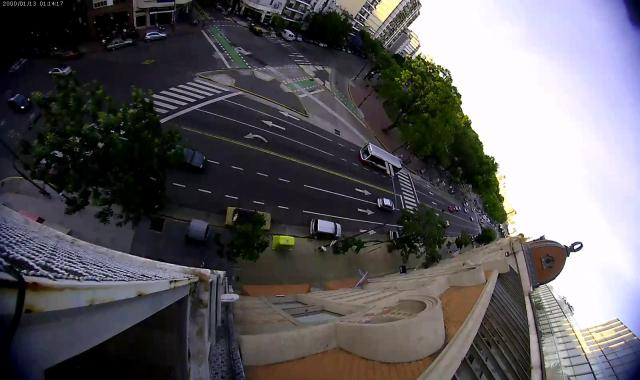bus: (359, 143, 403, 177)
car: (225, 206, 272, 231), (164, 145, 207, 172), (310, 219, 343, 239), (6, 92, 33, 112), (107, 37, 134, 51), (144, 29, 168, 43), (48, 64, 72, 76), (377, 198, 395, 212), (60, 48, 82, 59), (280, 29, 294, 41), (249, 27, 263, 36), (388, 230, 400, 238), (296, 34, 303, 42), (448, 206, 454, 212), (454, 205, 459, 211), (463, 202, 468, 207), (446, 220, 449, 227), (470, 217, 475, 221), (464, 208, 468, 212), (471, 208, 475, 212), (459, 207, 462, 210)
